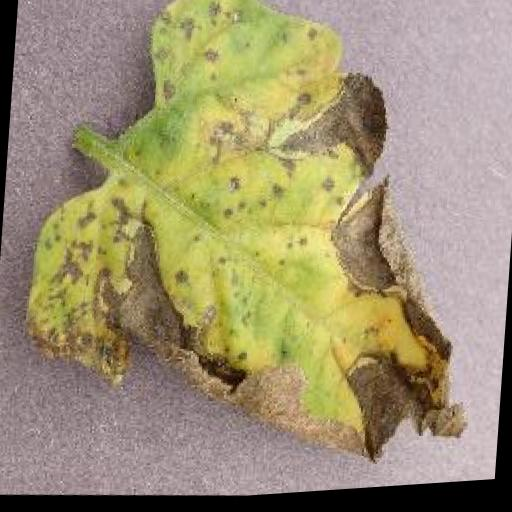Septoria: (14, 0, 494, 488)
